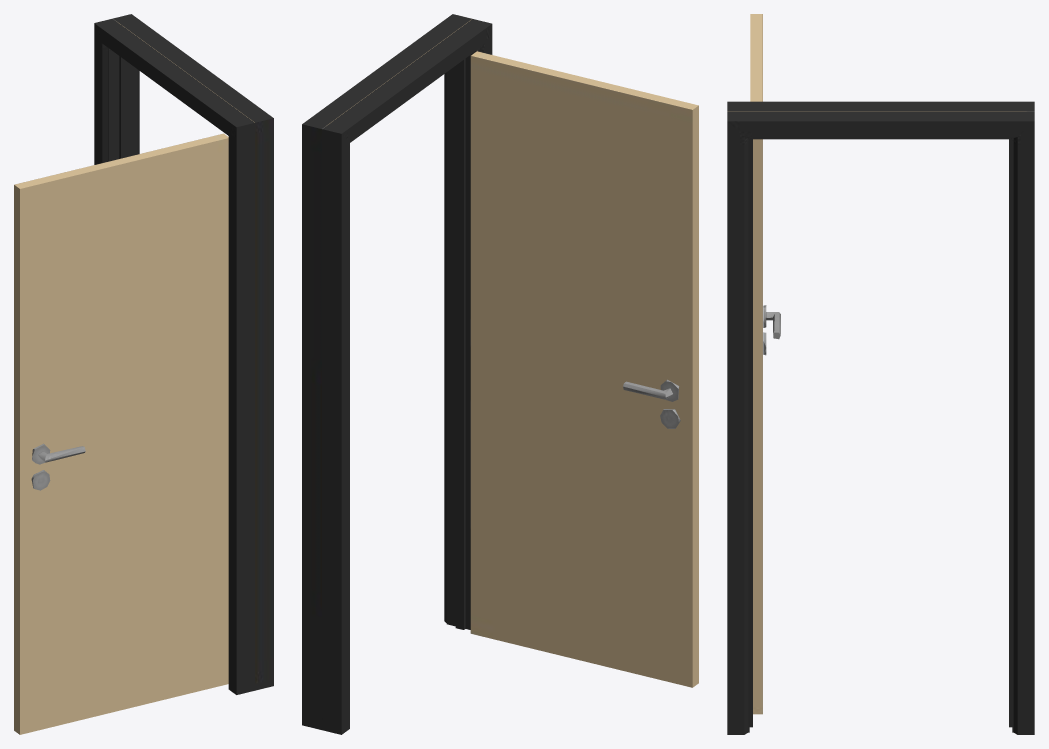
The model's file is Door0011open.obj.
The picture shows the model from 3 angles, left to right: view 1: azimuth 30°, elevation 25°; view 2: azimuth 150°, elevation 25°; view 3: azimuth 270°, elevation 25°; orthographic projection. The views are drawn at different scales.
Size of the model in its own units: 0.951 by 2.12 by 0.964.
1 material, 1 textured.
